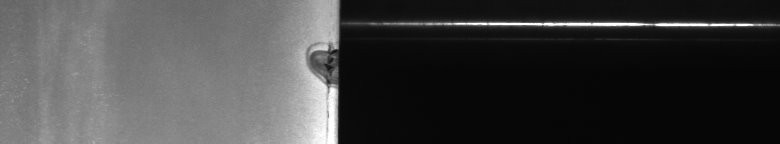hb: (299, 40, 328, 96)
